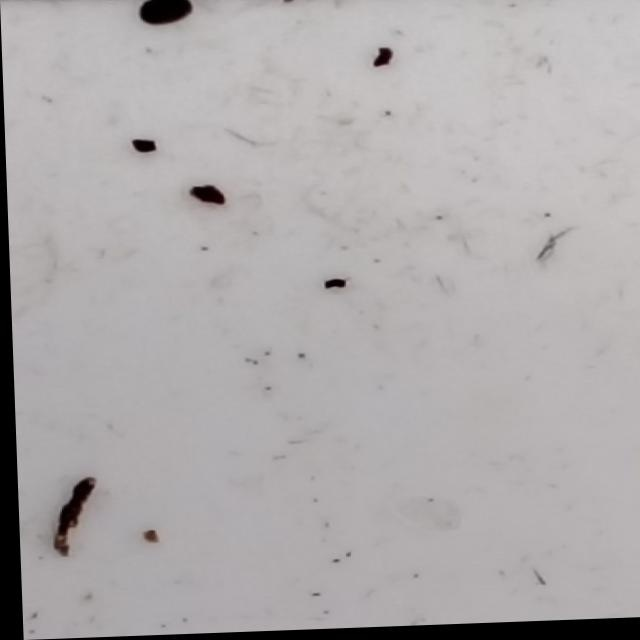varroa: (137, 1, 198, 29)
